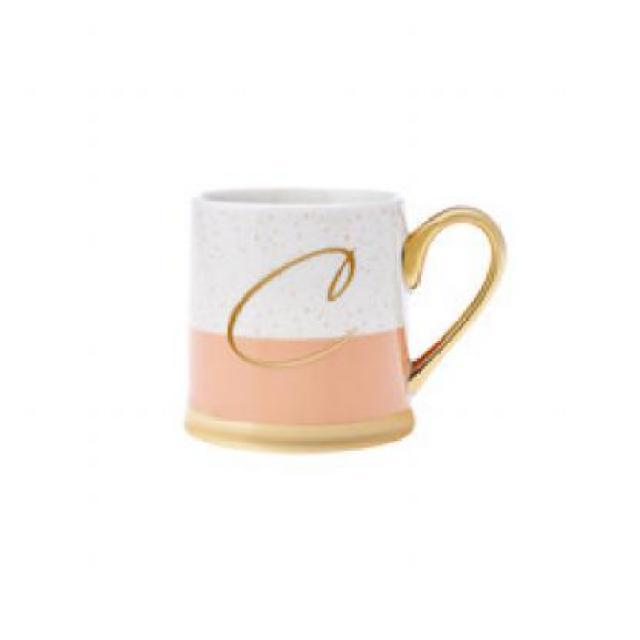taza: (182, 185, 508, 457)
